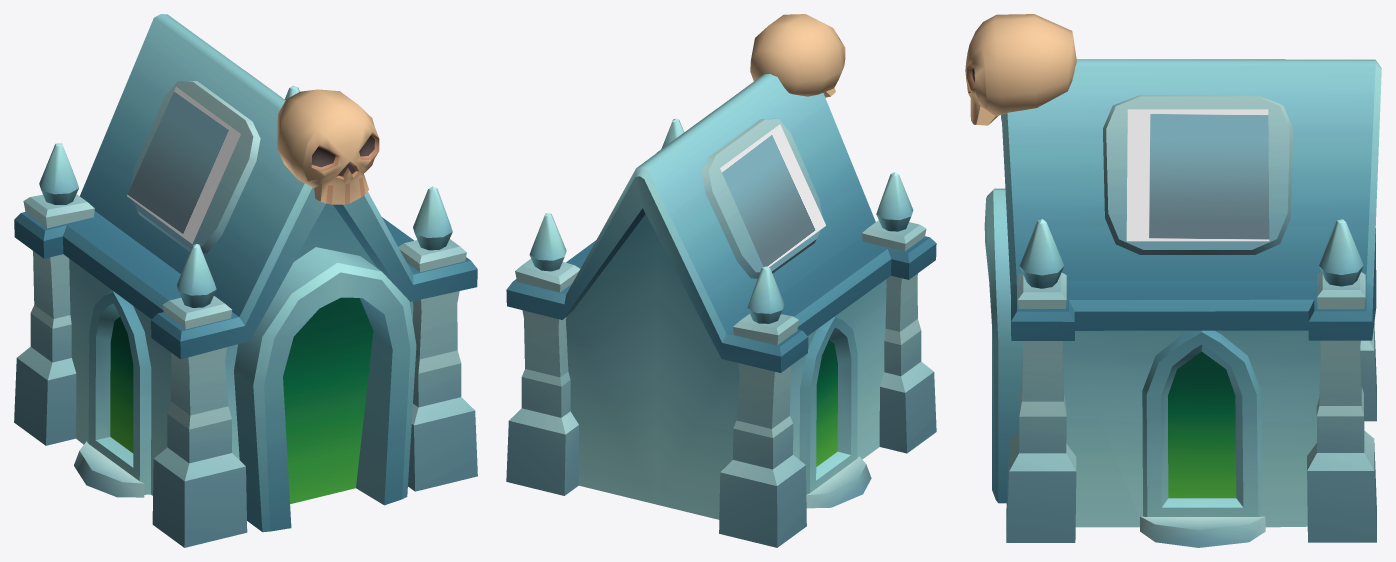
The model's file is env_Skeletons_Crypt_Spawn_lvl_1.fbx.
The picture shows the model from 3 angles, left to right: view 1: azimuth 30°, elevation 25°; view 2: azimuth 150°, elevation 25°; view 3: azimuth 270°, elevation 25°; orthographic projection. The views are drawn at different scales.
Parts seen in each view (by area): view 1: Skeleton_spawn_Crypt_lvl_1, Crypt_number_1, Skeleton_1; view 2: Skeleton_spawn_Crypt_lvl_1, Crypt_number_1, Skeleton_1; view 3: Skeleton_spawn_Crypt_lvl_1, Crypt_number_1, Skeleton_1.
Part boxes in pixels (bbox=[...]): Skeleton_spawn_Crypt_lvl_1: bbox=[14, 14, 477, 547]; Crypt_number_1: bbox=[127, 70, 275, 243]; Skeleton_1: bbox=[277, 89, 379, 204]; Skeleton_spawn_Crypt_lvl_1: bbox=[506, 74, 936, 547]; Crypt_number_1: bbox=[657, 109, 825, 267]; Skeleton_1: bbox=[750, 14, 845, 97]; Skeleton_spawn_Crypt_lvl_1: bbox=[984, 59, 1381, 547]; Crypt_number_1: bbox=[1126, 109, 1269, 241]; Skeleton_1: bbox=[965, 14, 1076, 125].
Bounding box in the file's own units: 329 × 416 × 351.
2 materials, 2 textured.
